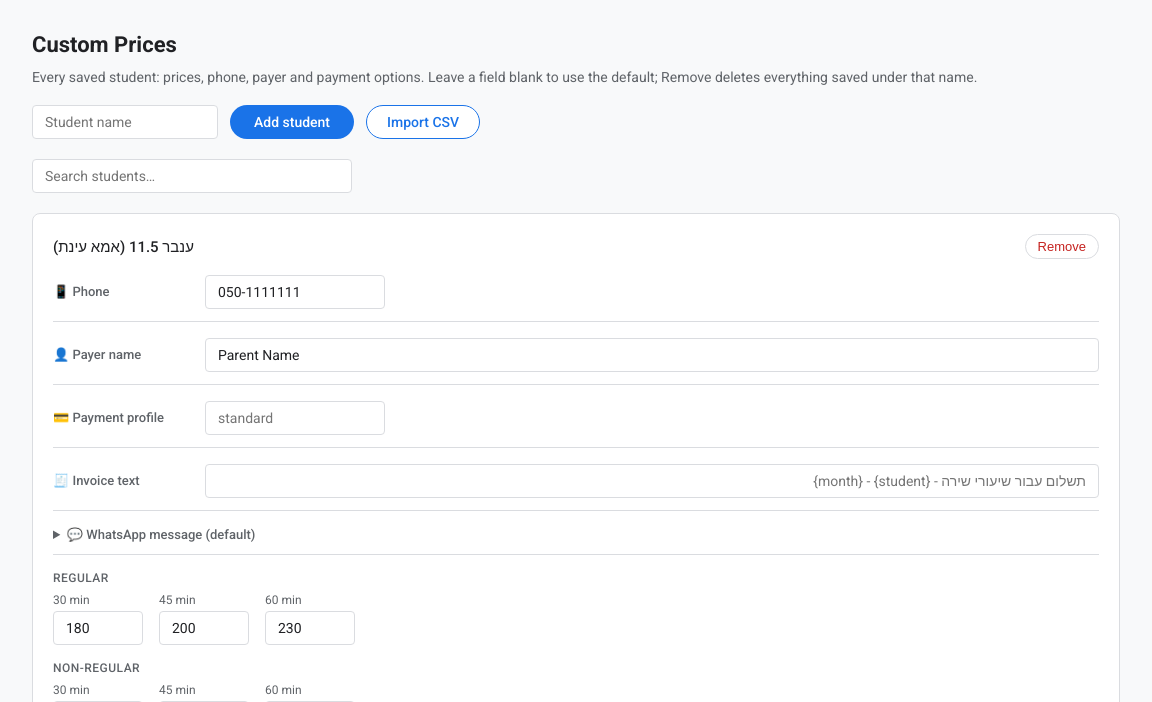
Test: CustomPricesPage remove and undo › keeps Save all available to persist removal of the last student
Click the button "Remove". click: [1062, 246]
box: [1025,234,1099,259]
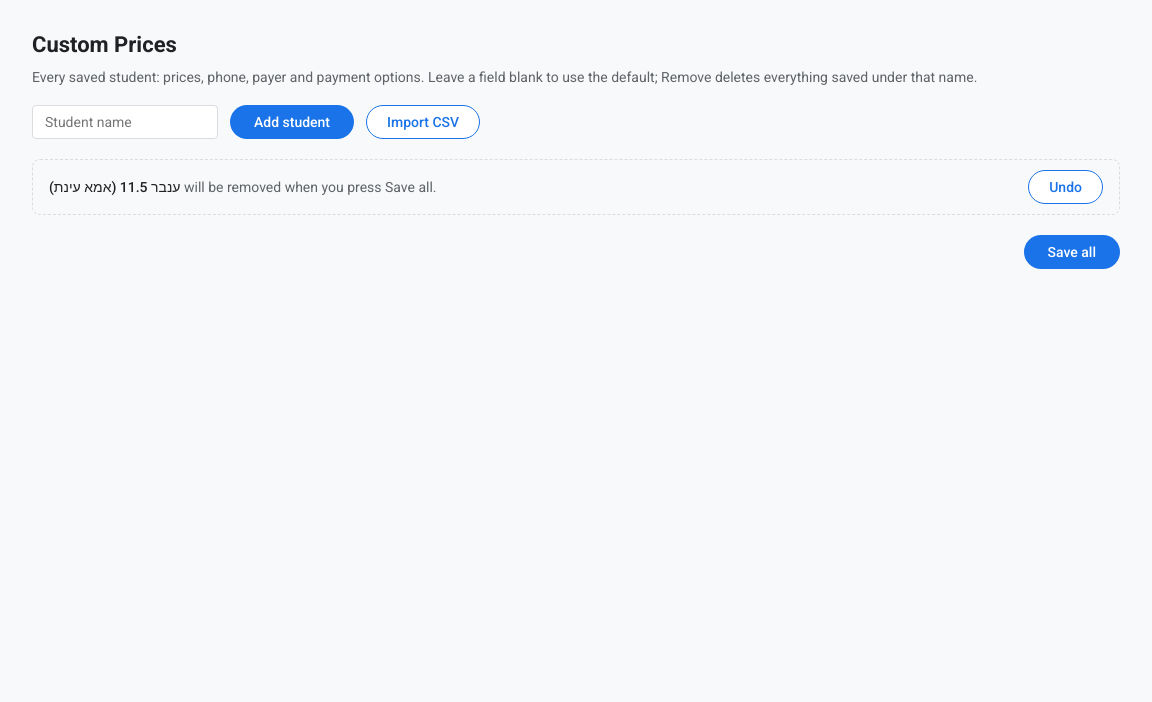
Expected: the text "No saved students yet" is not shown
Now the message shows "will be removed when you press Save all.", box [180,179,436,195]
Click the button "Save all". click: [1072, 252]
box: [1024,235,1120,269]
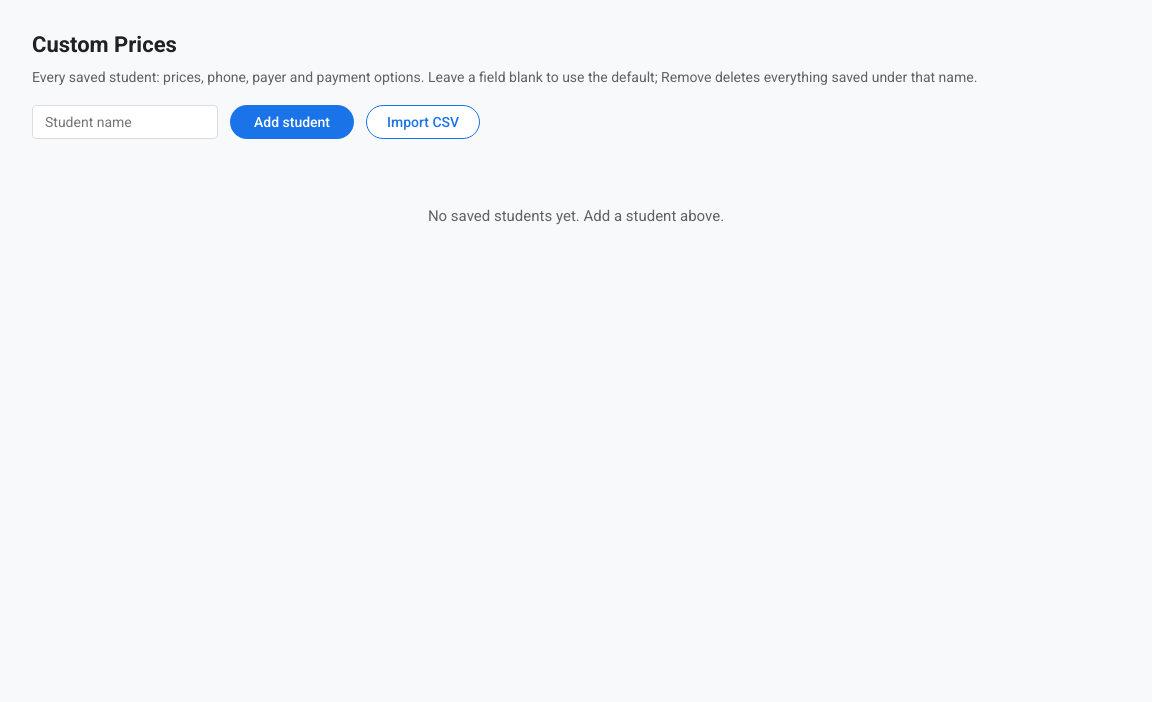
Now the button "Undo" is gone
Now the text "No saved students yet. Add a student above." is shown, box [428,207,724,225]
